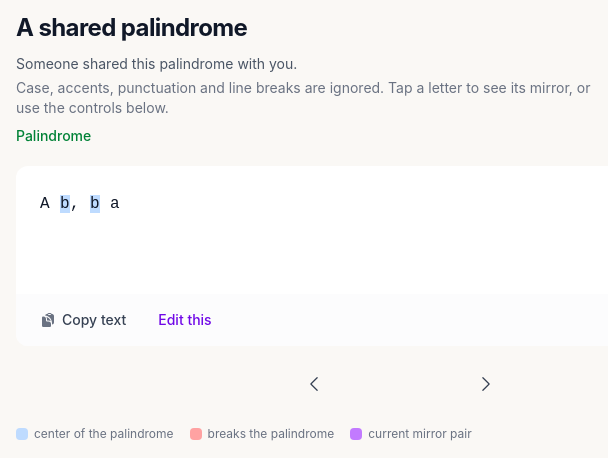
Test: Reader › the stepper steps, centres and stops at the boundaries
Expected: the button "Copy text" is shown, [32,304,134,336]
Click the button named "Next pair".
click(486, 384)  # box [464,362,508,406]
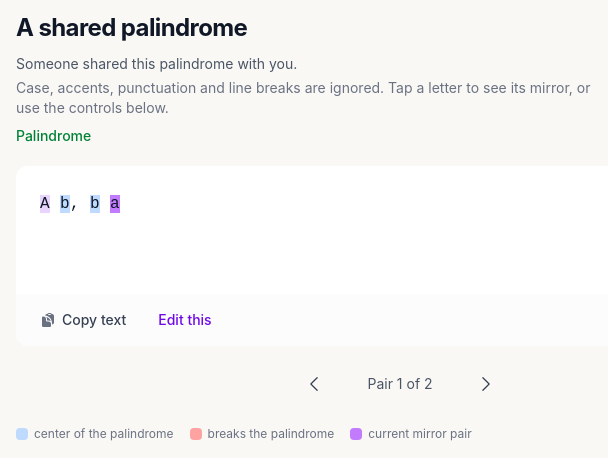
Now the text "Pair 1 of 2" is shown, box [368,375,433,392]
Click the button named "Next pair".
click(486, 384)  # box [464,362,508,406]
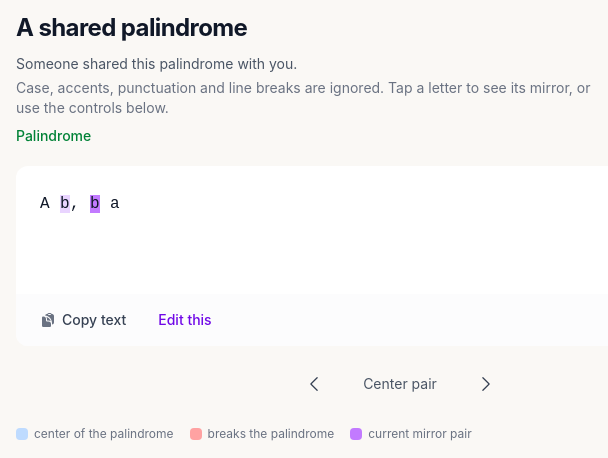
Now the text "Center pair" is shown, box [363,375,437,392]
Click the button named "Previous pair".
click(314, 384)  # box [292,362,336,406]
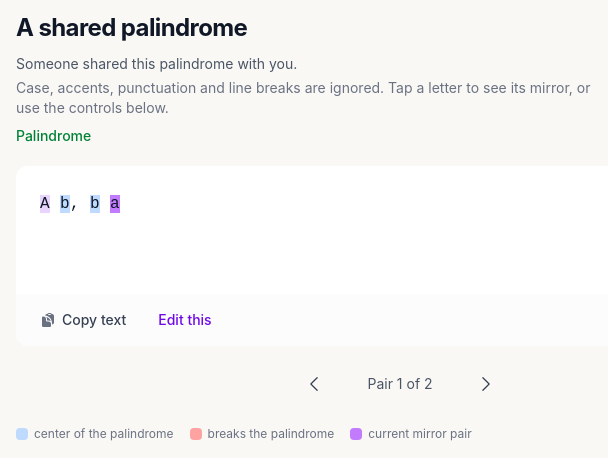
Now the text "Pair 1 of 2" is shown, box [368,375,433,392]
